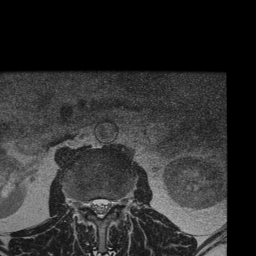CCS_normal: (97, 190, 104, 225)
LFS_stenosis: (112, 190, 119, 215)
LLS_normal: (104, 189, 112, 220)
RFS_normal: (81, 190, 88, 218)
RLS_normal: (88, 190, 97, 218)
